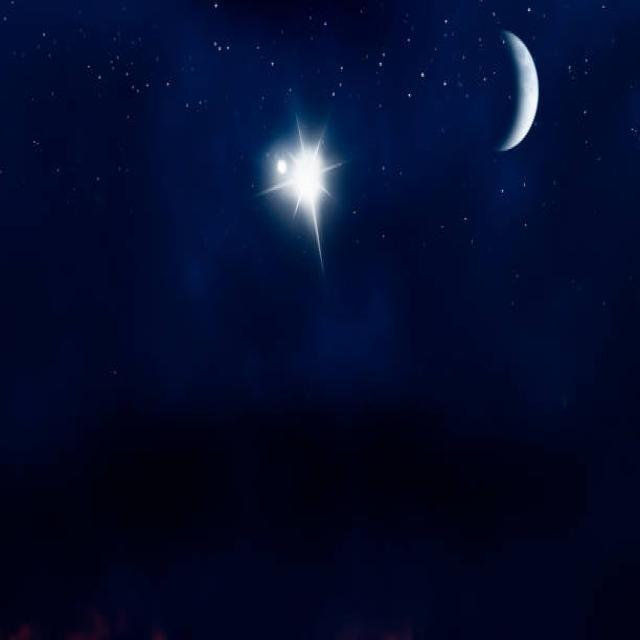moon: (469, 21, 541, 156)
